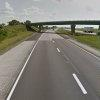Bridge: (22, 12, 97, 36)
